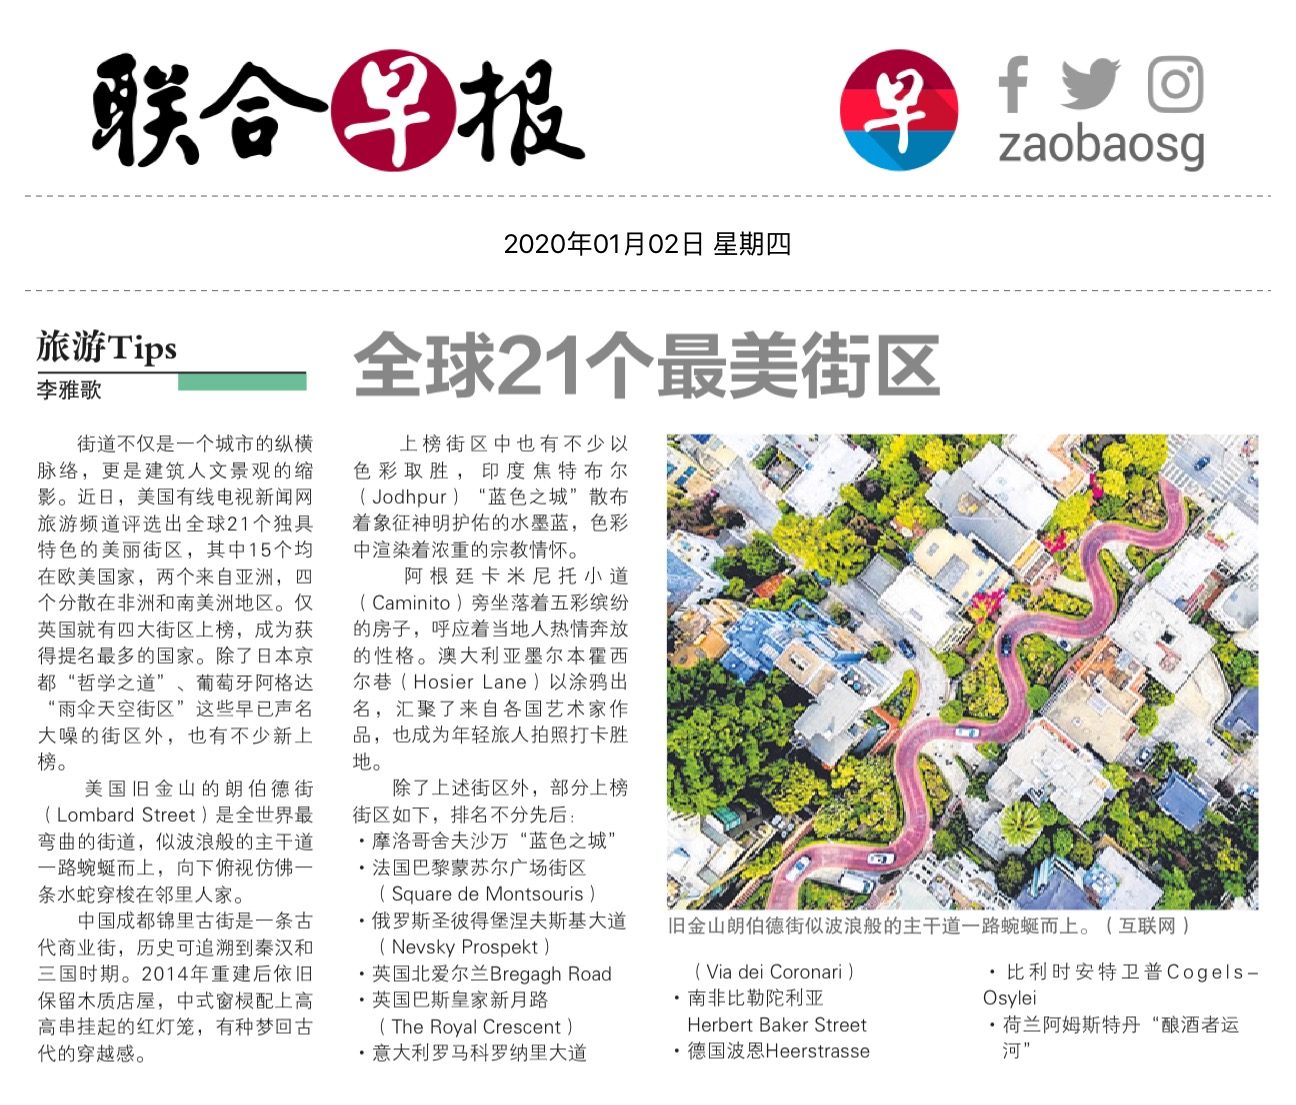heading: (348, 319, 952, 406)
